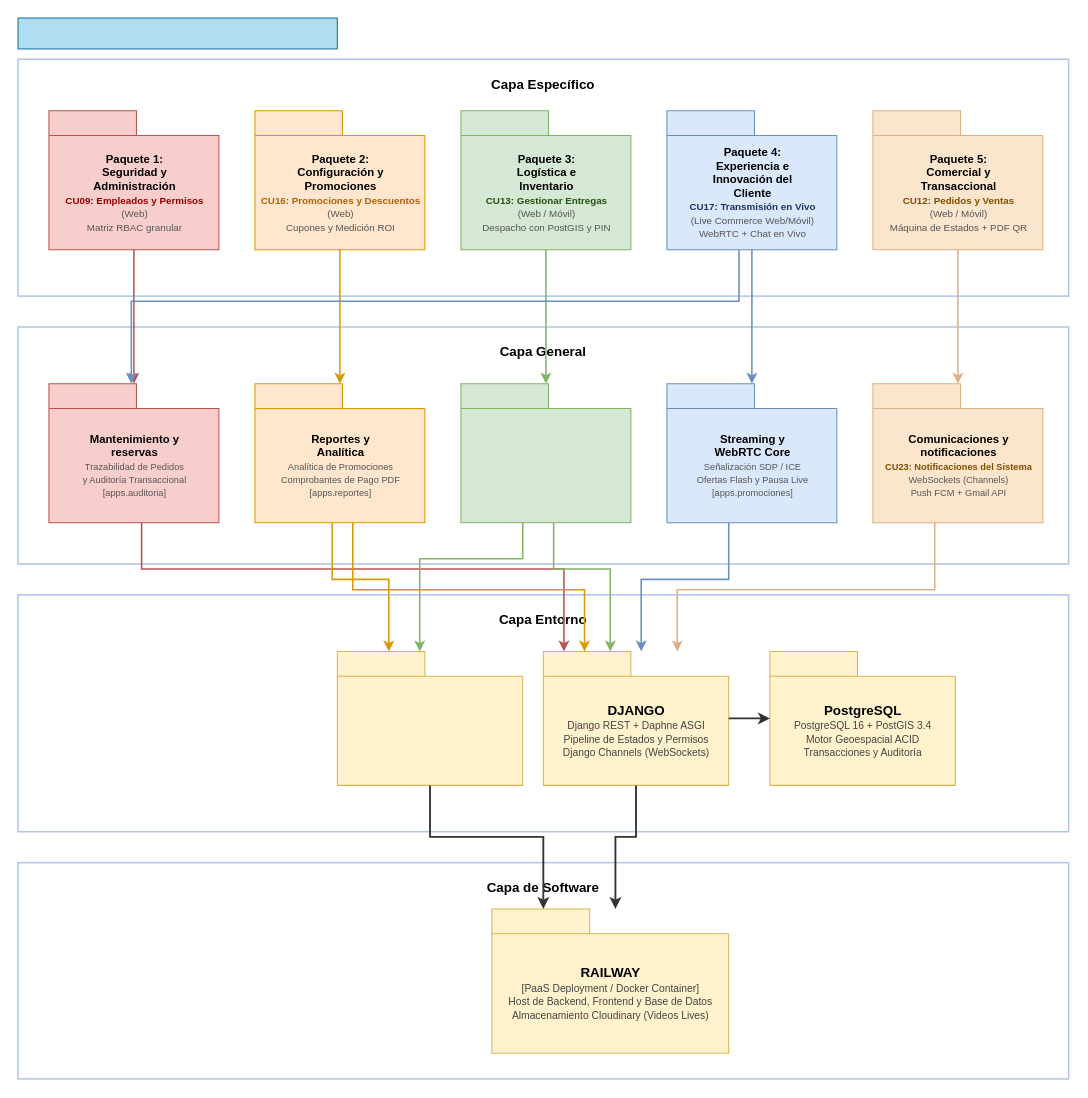
Some shapes in this 1088 by 1098 pixel diagram are drawn without their labels. The shapes that lost their labels are listed below. From the top down, each one's centre as x and y in pixels, then its label:
At [177,33]: "Diagrama de paquetes organizado por capas — Sprint 3".
At [545,453]: "Usuarios y Auth TenantModel Multi-Tenant Permisos Modulares RBAC [apps.usuarios]".
At [429,717]: "REACT Frontend Web SPA (Vite) Consola Empresa & Admin Leaflet Maps & Live Studio".
